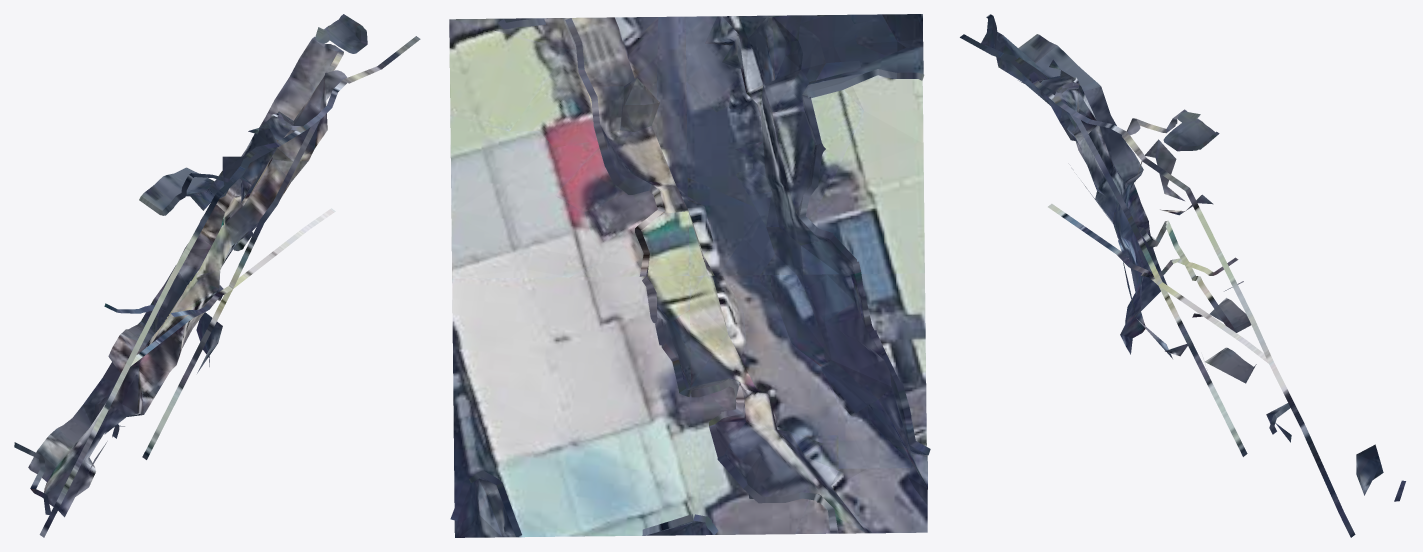
3 views of the same model, side by side, from view 1: azimuth 30°, elevation 25°; view 2: azimuth 150°, elevation 25°; view 3: azimuth 270°, elevation 25° (orthographic). The views are drawn at different scales.
Bounding box in the file's own units: 39.53 × 37.36 × 36.22.
Materials: 1 (1 with a texture image).
